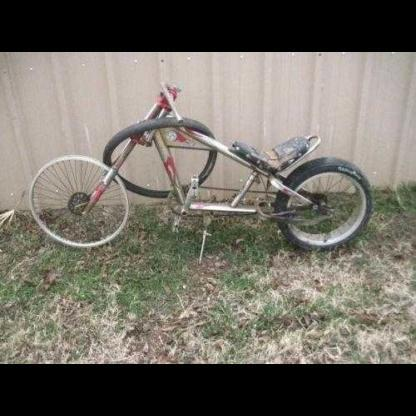Bicycle: (16, 68, 381, 296)
